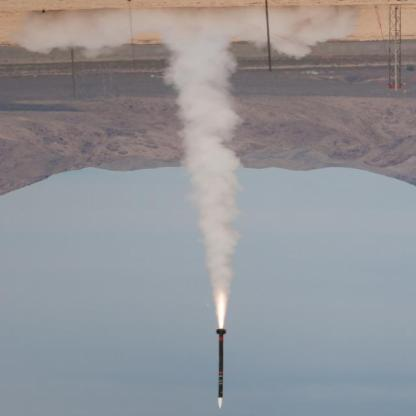MIL_TBM: (214, 327, 228, 409)
